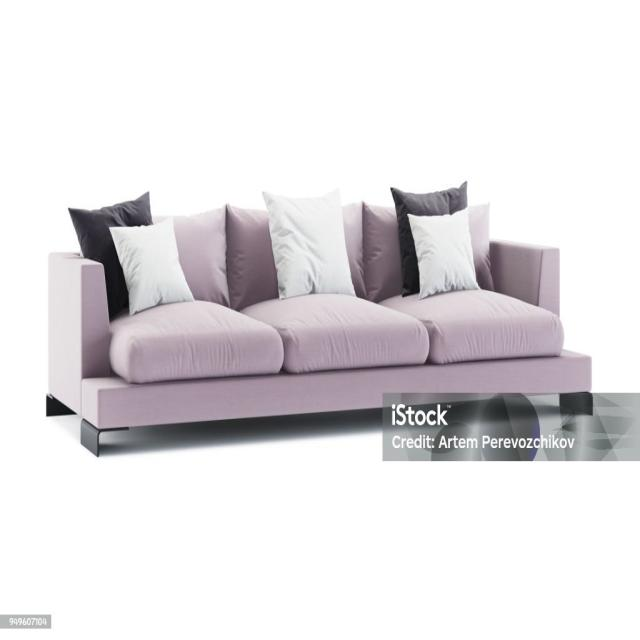back_cushion: (69, 185, 492, 316)
left_arm: (491, 240, 559, 315)
legs: (81, 418, 120, 456), (559, 393, 592, 414), (47, 395, 74, 416)
right_arm: (49, 253, 109, 413)
seat_cushion: (110, 291, 563, 382)
stallion-sofa1: (0, 2, 639, 639)
